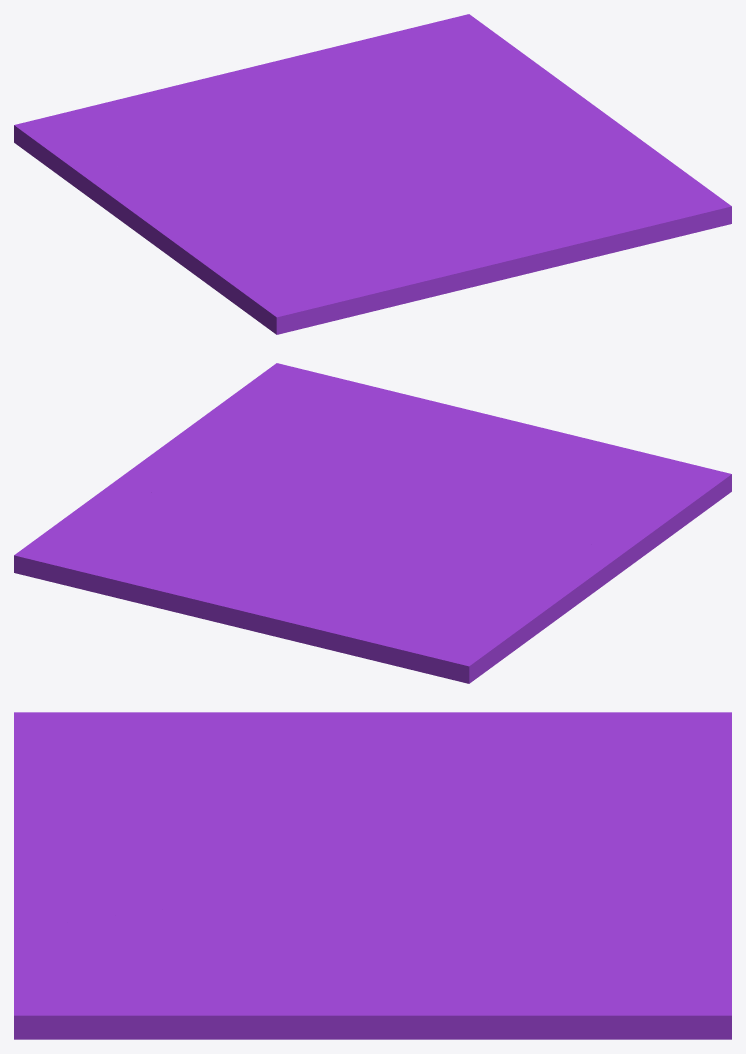
The model's file is Platform_2_chunks.fbx.
The picture shows the model from 3 angles, top to bottom: view 1: azimuth 30°, elevation 25°; view 2: azimuth 150°, elevation 25°; view 3: azimuth 270°, elevation 25°; orthographic projection. The views are drawn at different scales.
Visible parts, largest first — view 1: Platform_2_0, Platform_2_7, Platform_2_5, Platform_2_9, Platform_2_3, Platform_2_1, Platform_2_11, Platform_2_14, Platform_2_8, Platform_2_15, Platform_2_4, Platform_2_18 (+4 smaller); view 2: Platform_2_9, Platform_2_0, Platform_2_3, Platform_2_5, Platform_2_7, Platform_2_1, Platform_2_14, Platform_2_11, Platform_2_8, Platform_2_15, Platform_2_4, Platform_2_18 (+4 smaller); view 3: Platform_2_0, Platform_2_9, Platform_2_5, Platform_2_7, Platform_2_3, Platform_2_1, Platform_2_15, Platform_2_18, Platform_2_8, Platform_2_11, Platform_2_14, Platform_2_4 (+4 smaller).
Part boxes in pixels (x1,y1,x2,y2): Platform_2_0: (419, 152, 731, 268); Platform_2_7: (209, 235, 448, 334); Platform_2_5: (368, 166, 601, 292); Platform_2_9: (228, 14, 477, 123); Platform_2_3: (91, 73, 339, 160); Platform_2_1: (190, 146, 366, 290); Platform_2_11: (80, 159, 222, 265); Platform_2_14: (14, 106, 168, 188); Platform_2_8: (306, 115, 530, 166); Platform_2_15: (433, 21, 557, 112); Platform_2_4: (250, 164, 415, 241); Platform_2_18: (499, 79, 657, 157); Platform_2_9: (14, 529, 320, 630); Platform_2_0: (203, 363, 405, 497); Platform_2_3: (250, 536, 429, 664); Platform_2_5: (352, 394, 559, 498); Platform_2_7: (518, 432, 731, 535); Platform_2_1: (350, 517, 671, 567); Platform_2_14: (390, 597, 536, 683); Platform_2_11: (467, 537, 647, 620); Platform_2_8: (242, 459, 372, 559); Platform_2_15: (23, 490, 233, 548); Platform_2_4: (354, 481, 589, 521); Platform_2_18: (103, 417, 255, 494); Platform_2_0: (14, 886, 338, 1039); Platform_2_9: (503, 855, 731, 1039); Platform_2_5: (14, 814, 340, 929); Platform_2_7: (14, 712, 244, 826); Platform_2_3: (449, 763, 731, 860); Platform_2_1: (199, 712, 480, 861); Platform_2_15: (434, 930, 706, 1039); Platform_2_18: (215, 963, 490, 1027); Platform_2_8: (280, 859, 535, 947); Platform_2_11: (251, 712, 549, 773); Platform_2_14: (540, 712, 731, 782); Platform_2_4: (181, 750, 380, 884).
Size of the model in its own units: 810 by 29.87 by 810.
